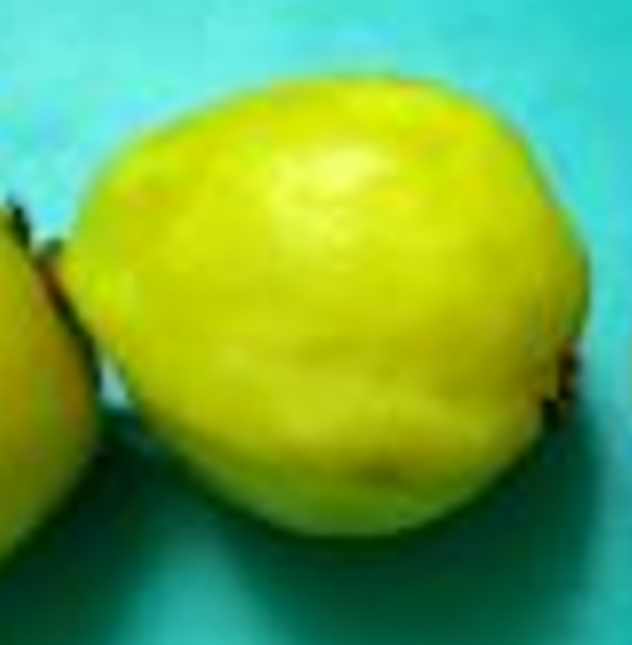guava_A: (46, 74, 592, 539)
